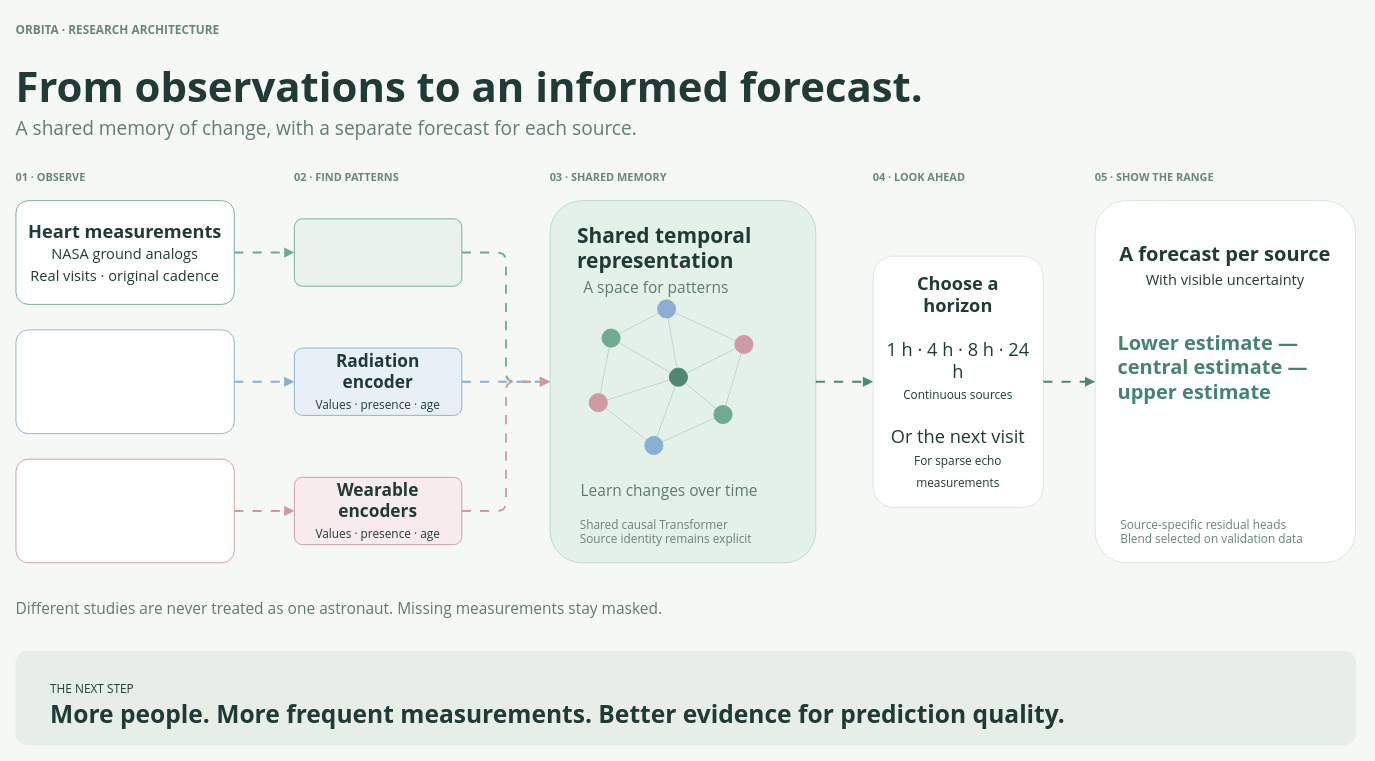
Some shapes in this 1375 by 761 pixel diagram are drawn without their labels. The centre of each missing label's shape, as x and y in pixels:
"Glucose and pulse Earth wearable study Known history + meal records" belongs at point (124, 510).
"Heart encoder Values · presence · age" belongs at point (377, 252).
"Station radiation NASA RadLab · ISS Instrument environment" belongs at point (124, 381).
